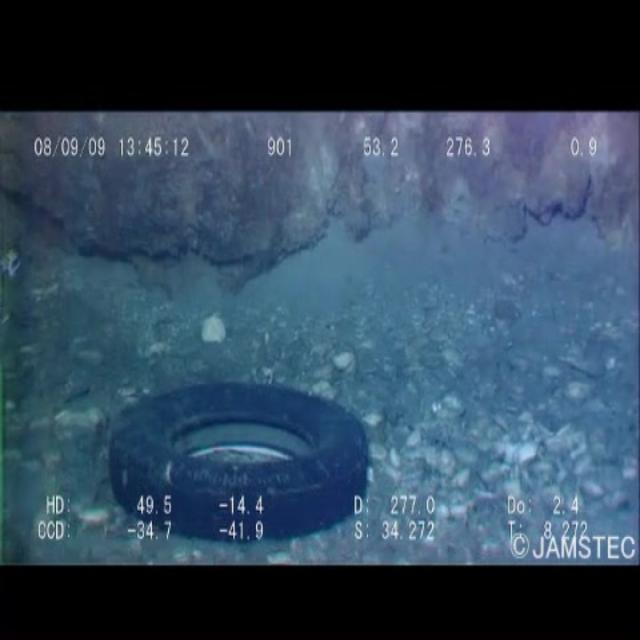Rubber: (98, 376, 395, 554)
